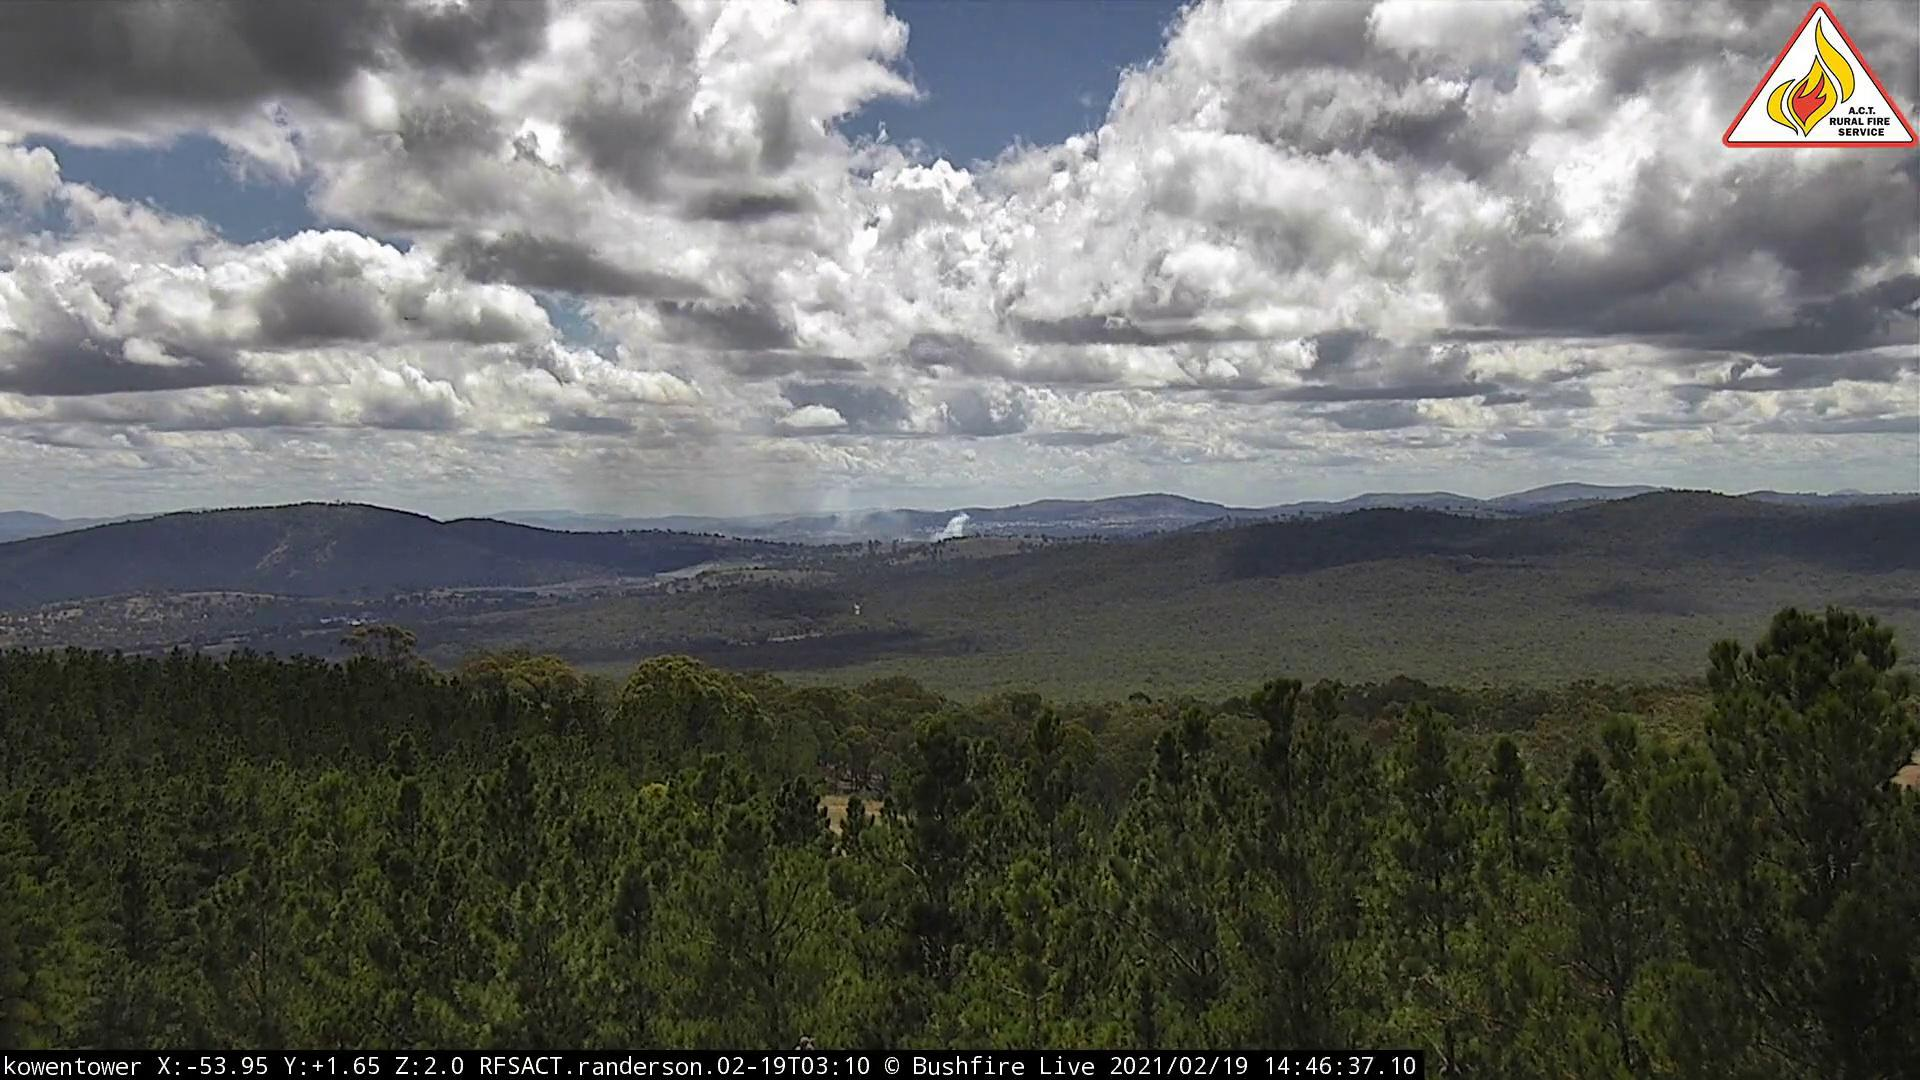Smoke: (545, 418, 975, 550)
